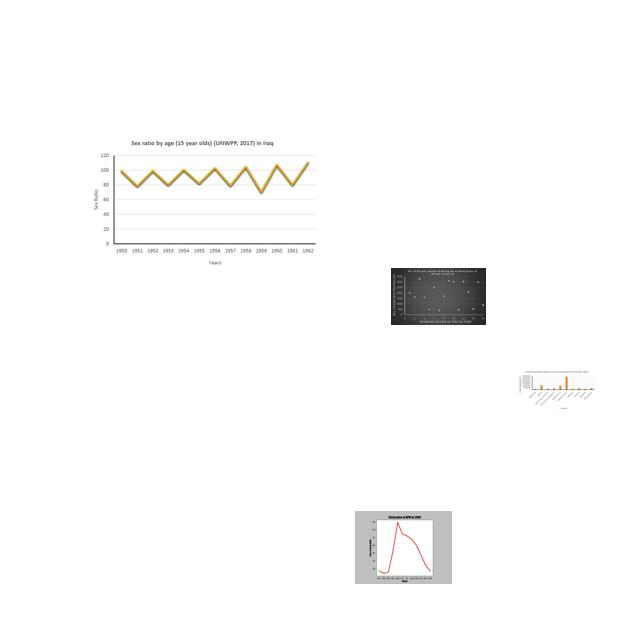Graph: (86, 134, 323, 272), (355, 511, 452, 584), (391, 268, 486, 325), (517, 369, 596, 412)
